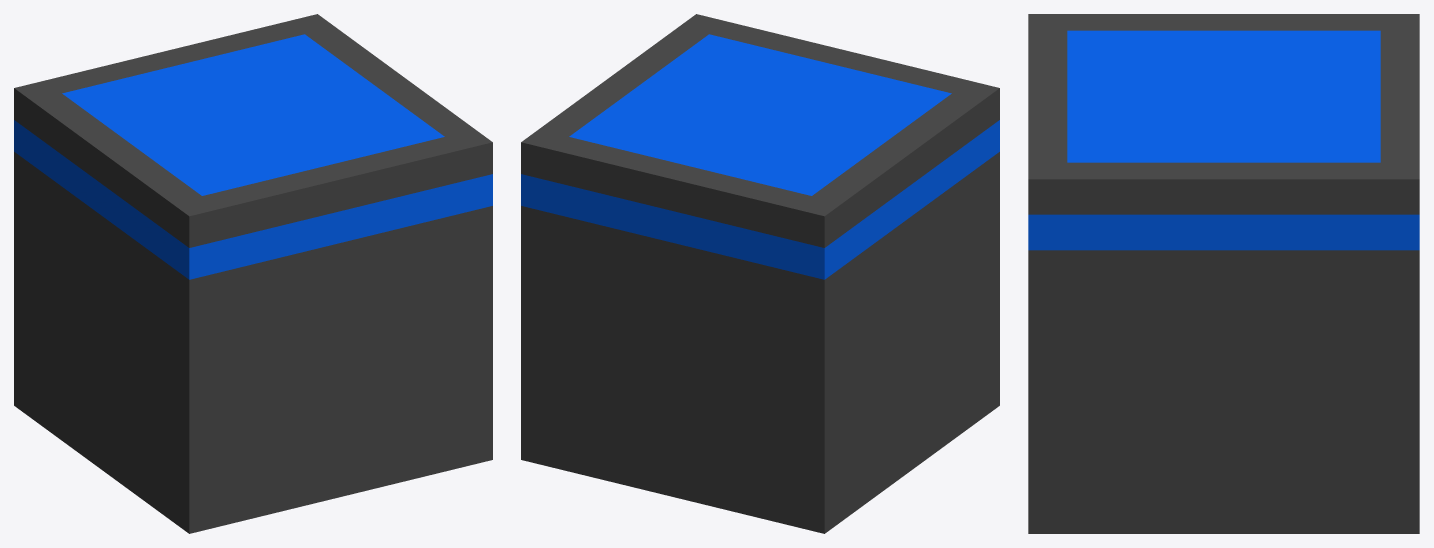
File: block.fbx
The picture shows the model from 3 angles, left to right: view 1: azimuth 30°, elevation 25°; view 2: azimuth 150°, elevation 25°; view 3: azimuth 270°, elevation 25°; orthographic projection. The views are drawn at different scales.
Visible parts, largest first — view 1: Block; view 2: Block; view 3: Block.
Boxes of the visible parts, bbox=[...] form: Block: bbox=[14, 14, 492, 533]; Block: bbox=[521, 14, 999, 533]; Block: bbox=[1028, 14, 1419, 533].
Size of the model in its own units: 100 by 100 by 100.
